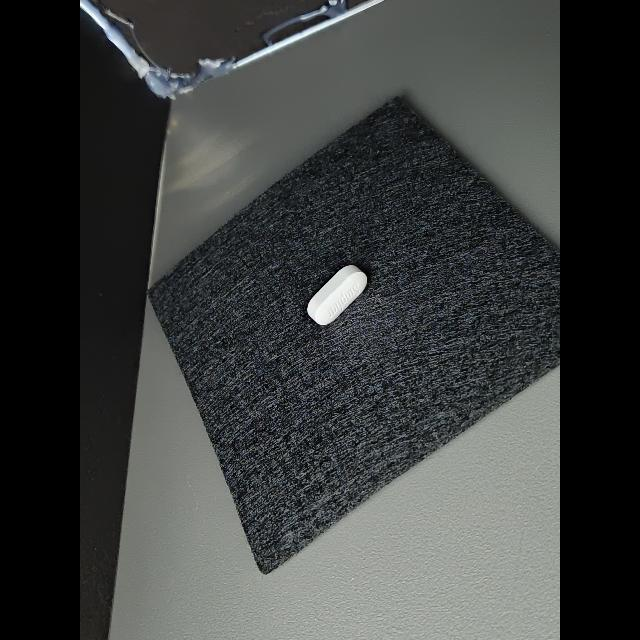Intact Pill: (307, 265, 367, 325)
